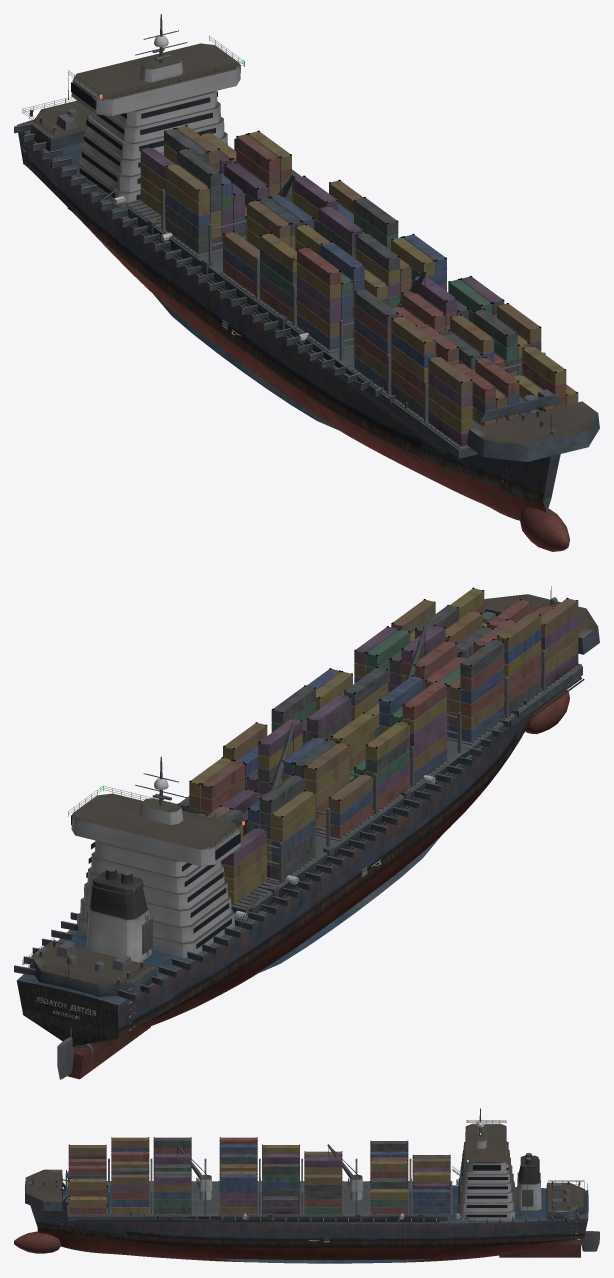
The model's file is merchant_ship.glb.
3 views of the same model, one above another, from view 1: azimuth 30°, elevation 25°; view 2: azimuth 150°, elevation 25°; view 3: azimuth 270°, elevation 25° (orthographic). The views are drawn at different scales.
Visible parts, largest first — view 1: mv_cargo, mv_super, mv_hull, mv_detail; view 2: mv_cargo, mv_super, mv_hull, mv_detail; view 3: mv_hull, mv_cargo, mv_super, mv_detail.
Part boxes in pixels (box(x1,y1,x2,y2)): mv_cargo: box(140, 125, 578, 446); mv_super: box(14, 14, 599, 461); mv_hull: box(16, 119, 569, 551); mv_detail: box(22, 28, 551, 484); mv_cargo: box(178, 587, 578, 904); mv_super: box(14, 594, 599, 1001); mv_hull: box(16, 689, 569, 1079); mv_detail: box(22, 586, 584, 1031); mv_hull: box(14, 1185, 599, 1263); mv_cargo: box(68, 1137, 450, 1214); mv_super: box(25, 1108, 585, 1225); mv_detail: box(32, 1120, 587, 1242).
Size of the model in its own units: 33.57 by 52.78 by 190.
21 materials, 21 textured.
